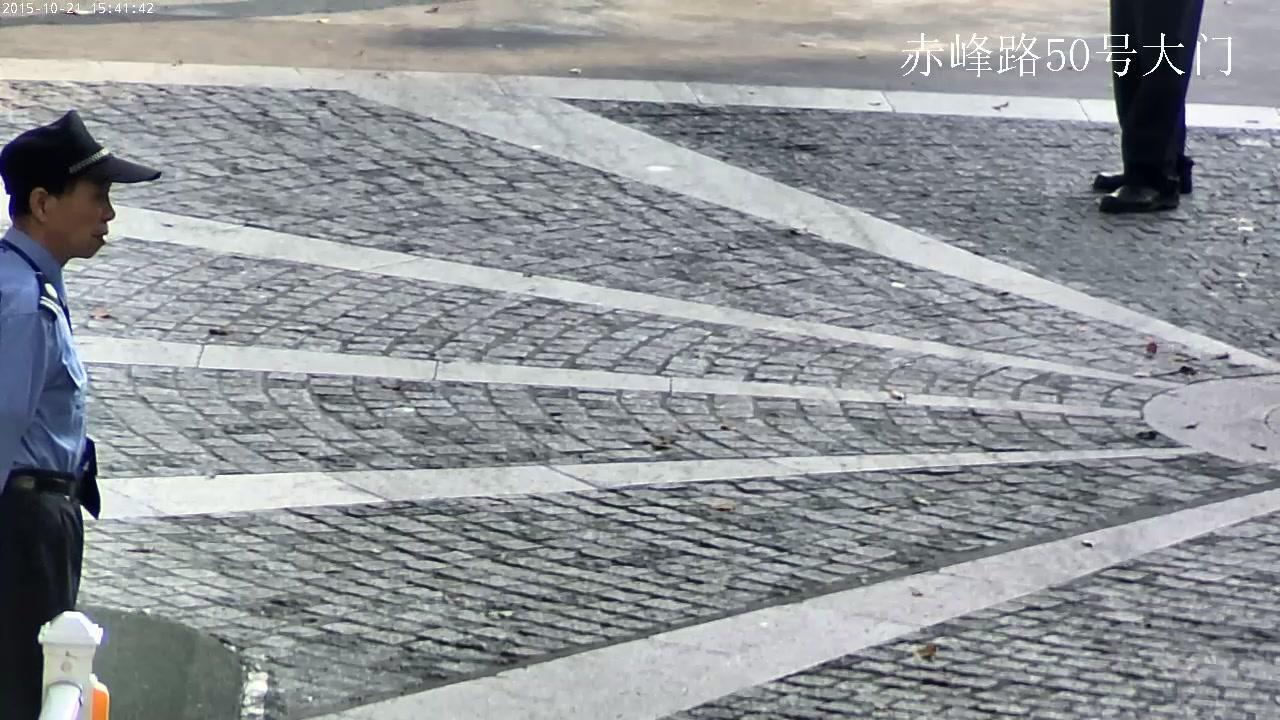face: (48, 180, 115, 258)
